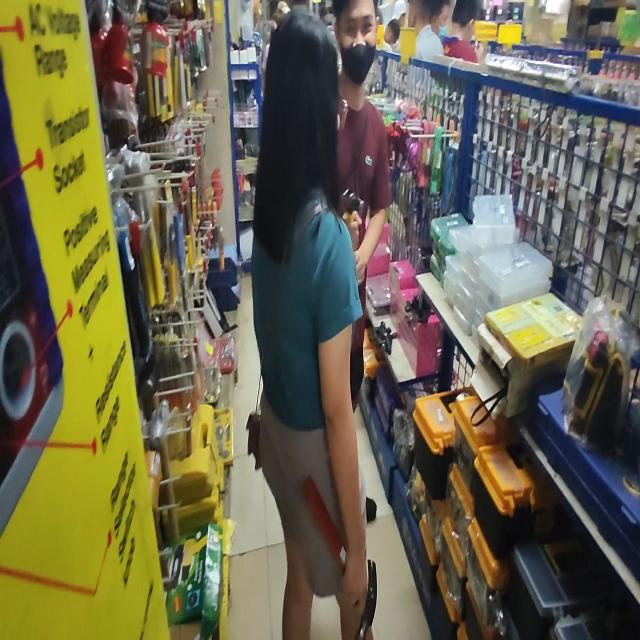hammer: (303, 479, 377, 640)
